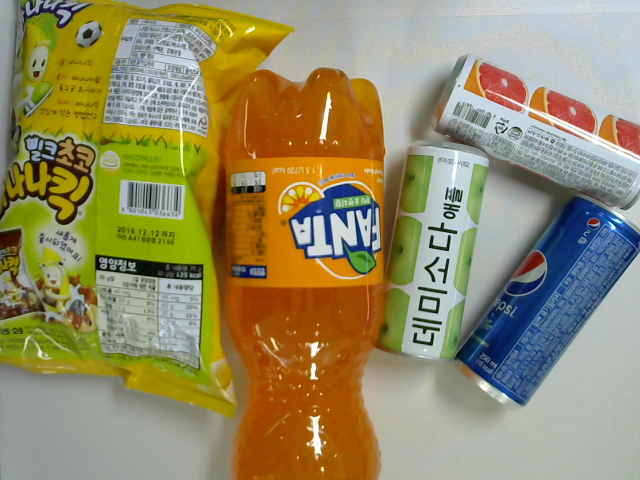Banana_Kick: (1, 1, 297, 417)
Demisoda_Apple_Can_250ml: (369, 140, 489, 364)
Demisoda_Grapefruit_Can_250ml: (431, 54, 640, 209)
Hwanta_Orange_1.5L: (225, 68, 386, 480)
Pepsi_Cola_Can_250ml: (458, 193, 640, 407)
